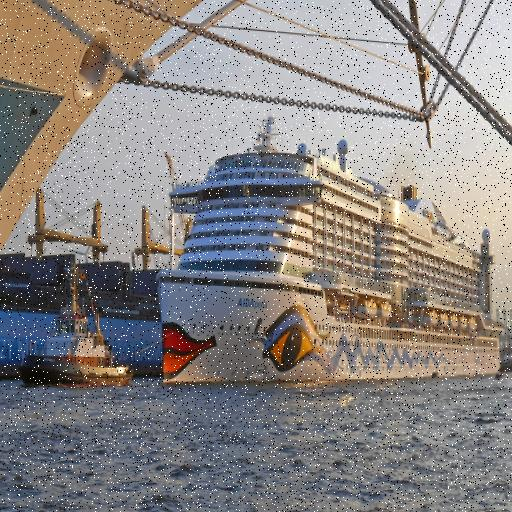cruises: (152, 110, 511, 395)
